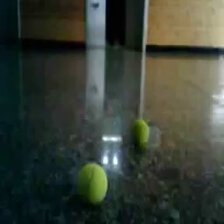tennis: (74, 163, 108, 205), (129, 119, 149, 149)
